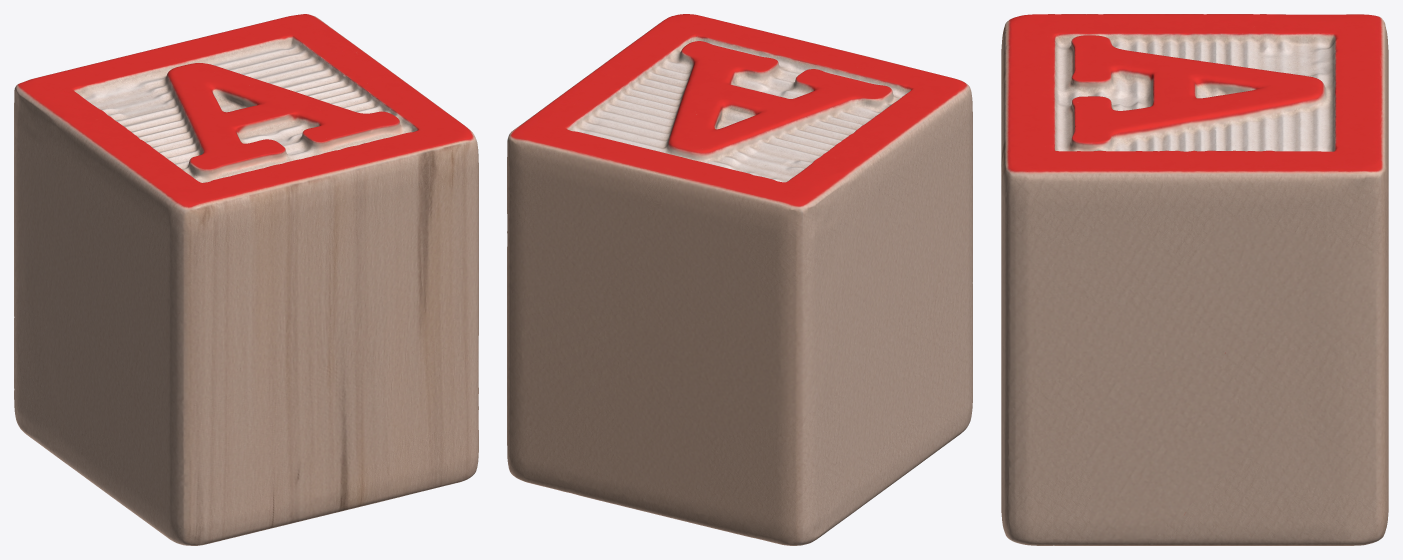
The model's file is Meshy_AI_Alphabet_Block_0922132812_texture.fbx.
3 views of the same model, side by side, from view 1: azimuth 30°, elevation 25°; view 2: azimuth 150°, elevation 25°; view 3: azimuth 270°, elevation 25° (orthographic). The views are drawn at different scales.
Parts seen in each view (by area): view 1: Mesh_0; view 2: Mesh_0; view 3: Mesh_0.
Part boxes in pixels (x1,y1,x2,y2): Mesh_0: (14, 14, 478, 545); Mesh_0: (507, 14, 972, 545); Mesh_0: (1001, 14, 1388, 545).
Bounding box in the file's own units: 173 × 190 × 174.
Materials: 1 (1 with a texture image).
